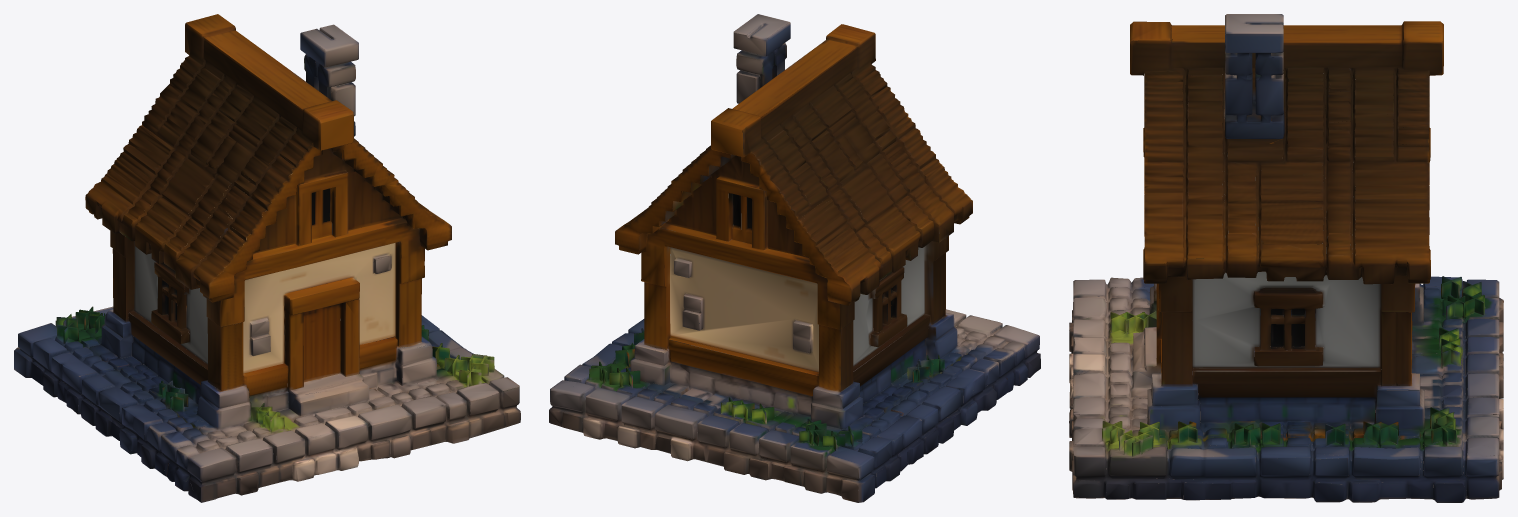
File: village _house_t3.glb
3 views of the same model, side by side, from view 1: azimuth 30°, elevation 25°; view 2: azimuth 150°, elevation 25°; view 3: azimuth 270°, elevation 25° (orthographic). The views are drawn at different scales.
Parts seen in each view (by area): view 1: node_0; view 2: node_0; view 3: node_0.
Part boxes in pixels (x1=…): node_0: x1=14, y1=14, x2=520, y2=502; node_0: x1=549, y1=14, x2=1040, y2=502; node_0: x1=1069, y1=14, x2=1503, y2=502.
Size of the model in its own units: 0.686 by 0.7228 by 0.6864.
Materials: 1 (1 with a texture image).
